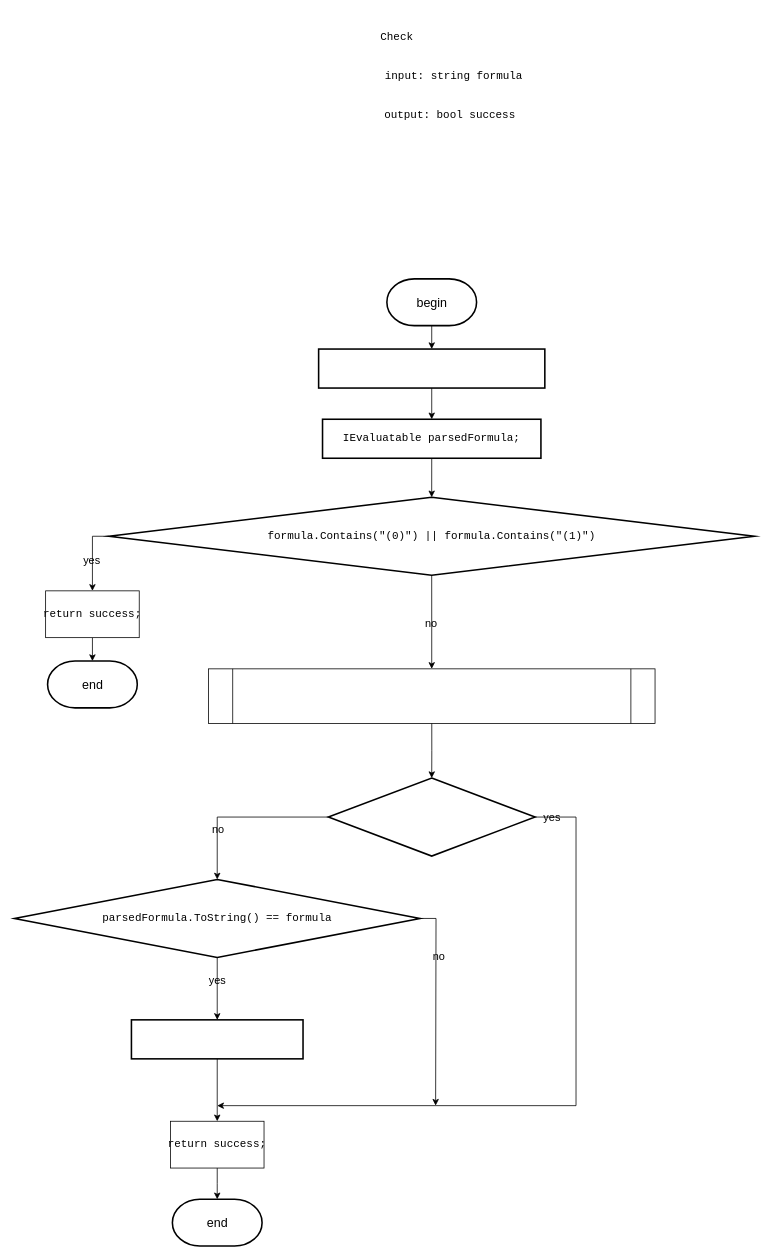
The diagram is 768 pixels wide and 1260 high, and some of its shapes have lost their labels. The shapes that lost their labels are listed below. From the top down, each one's centre as x and y in pixels, then its label:
At (431,368): "bool success = false ;".
At (431,695): "try{parsedFormula = FormulaParser . Parse ( formula );}".
At (431,816): "catch (Exception)".
At (216,1039): "success = true ;".
